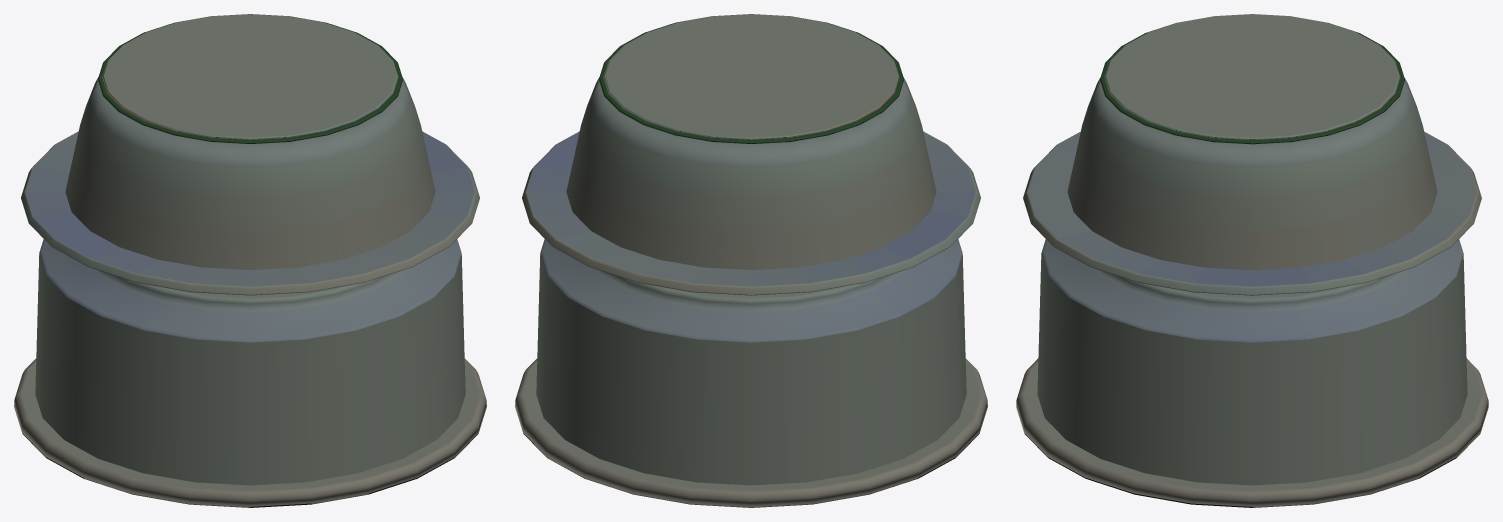
The model's file is Tile_M.fbx.
The picture shows the model from 3 angles, left to right: view 1: azimuth 30°, elevation 25°; view 2: azimuth 150°, elevation 25°; view 3: azimuth 270°, elevation 25°; orthographic projection.
Parts seen in each view (by area): view 1: Tile_top_M, Tile_bot_M; view 2: Tile_top_M, Tile_bot_M; view 3: Tile_top_M, Tile_bot_M.
Part boxes in pixels (box(x1,y1,x2,y2)): Tile_top_M: box(21, 14, 479, 295); Tile_bot_M: box(14, 239, 486, 507); Tile_top_M: box(522, 14, 980, 295); Tile_bot_M: box(515, 239, 987, 507); Tile_top_M: box(1023, 14, 1481, 295); Tile_bot_M: box(1016, 239, 1488, 507).
Bounding box in the file's own units: 134 × 104 × 134.
